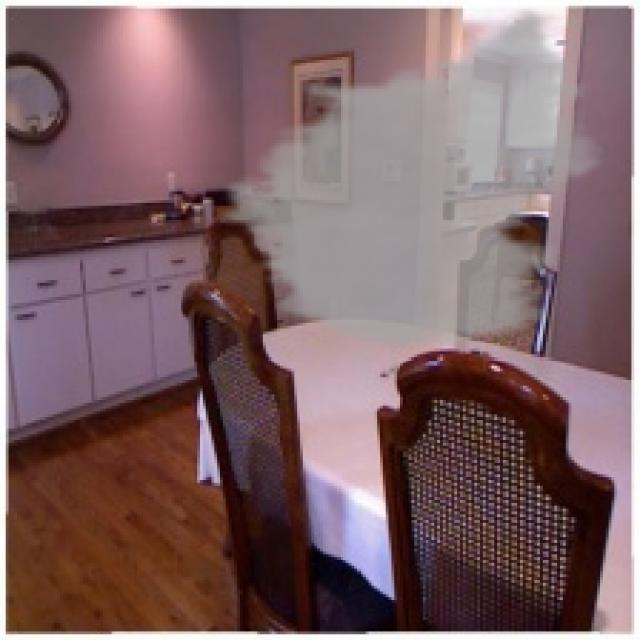Smoke: (212, 6, 614, 354)
